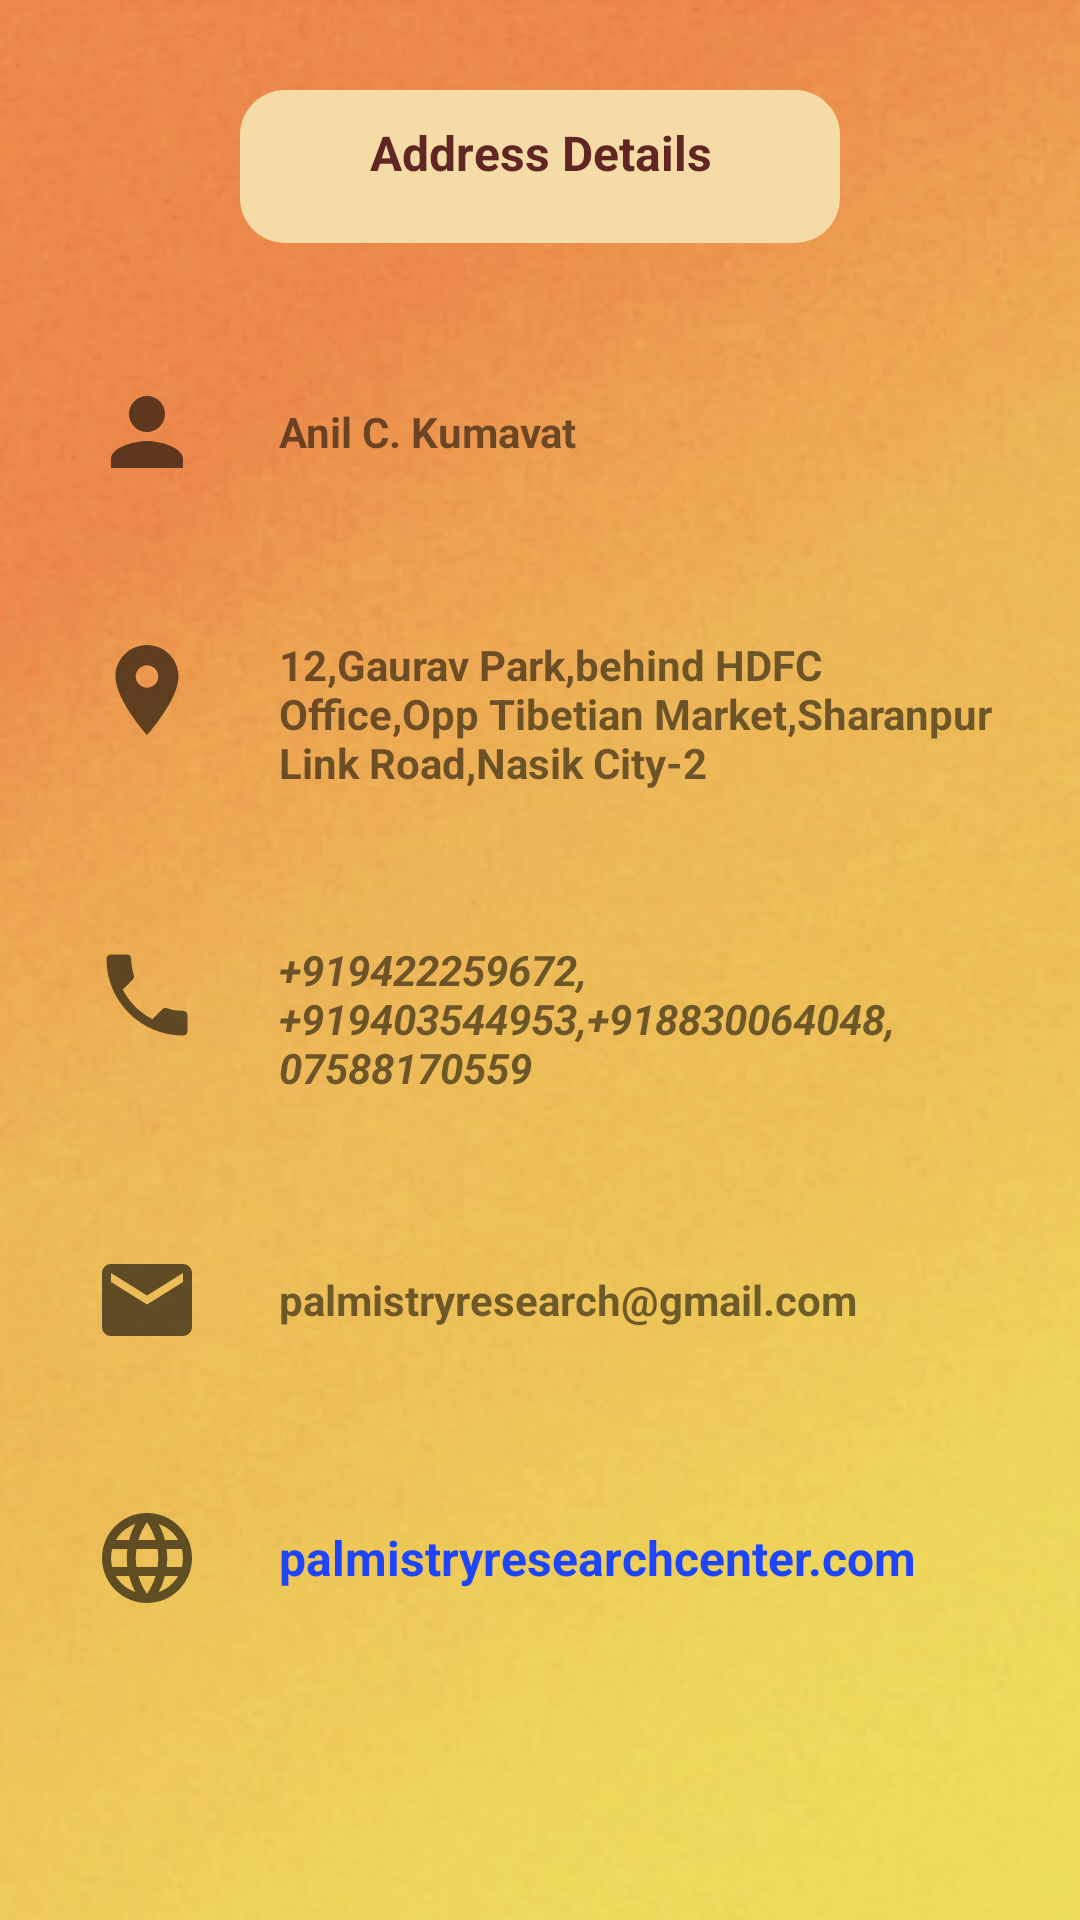

Point at icon controls on the screen. Image size 1080 x 1920, points as [x,y].
browser website: [147,1558]
email: [147,1300]
location on: [147,690]
person: [147,432]
phone: [147,995]
